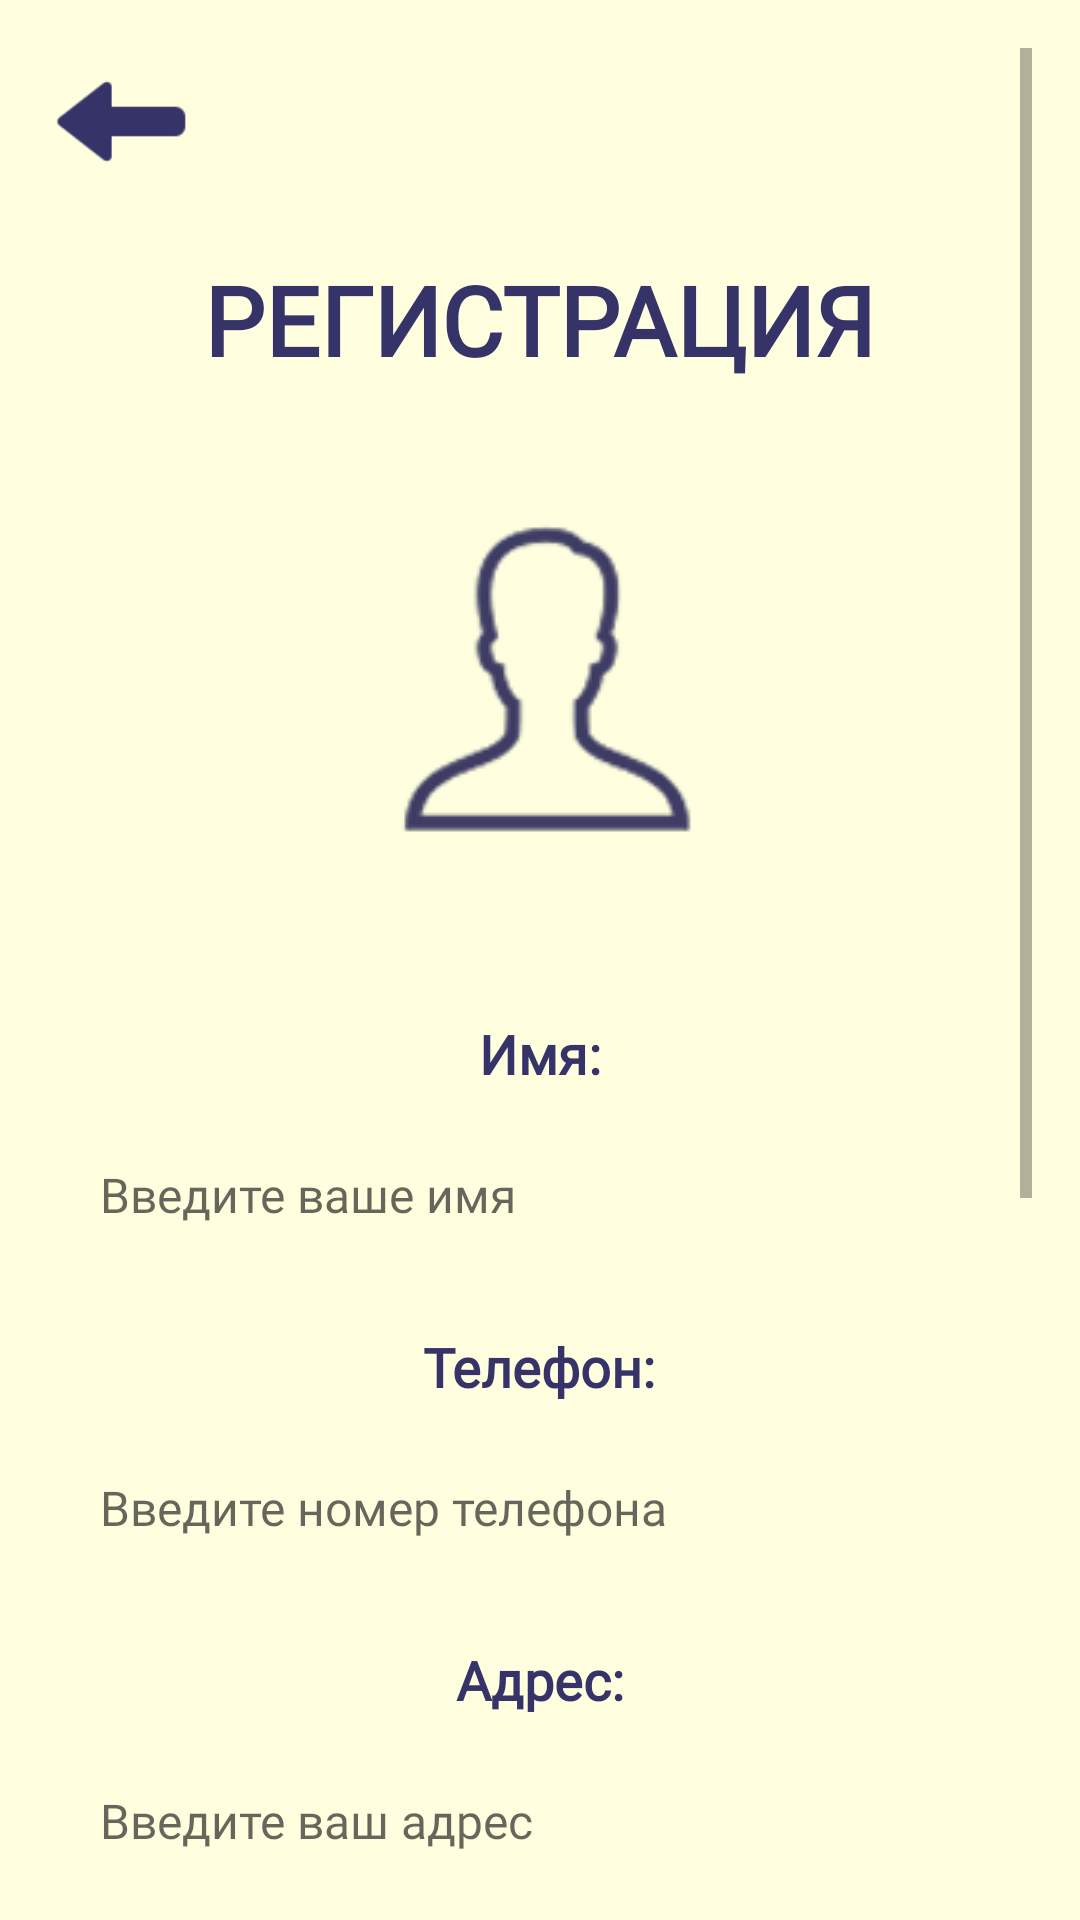

Icons on this 1080*1920 Android screen, each with its box as (x1, y1, x2, y2):
user front: (404, 527, 691, 832)
